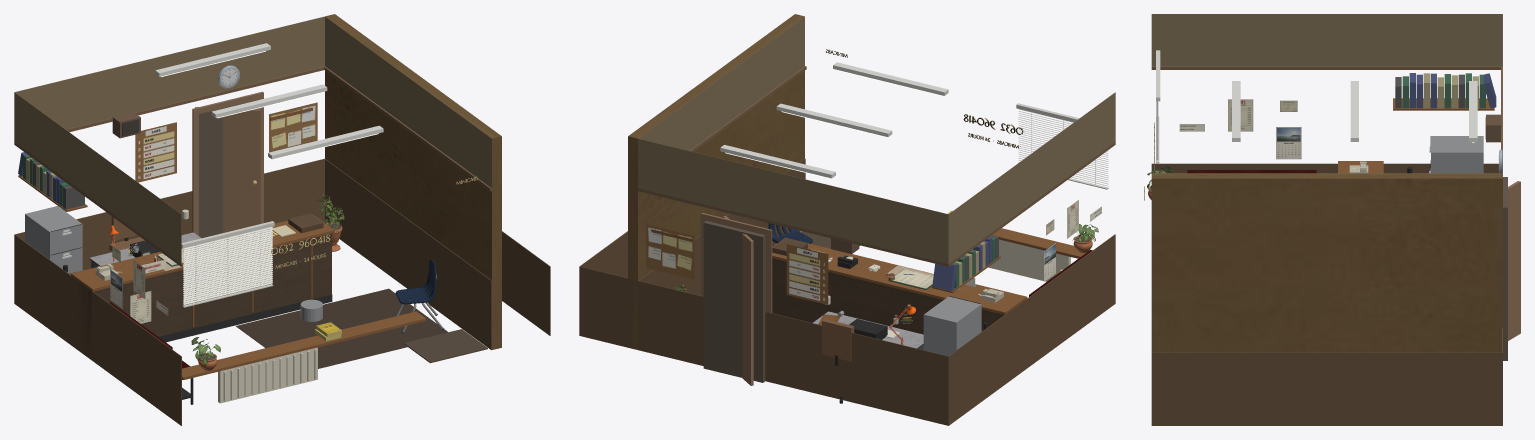
The model's file is fittings.glb.
The picture shows the model from 3 angles, left to right: view 1: azimuth 30°, elevation 25°; view 2: azimuth 150°, elevation 25°; view 3: azimuth 270°, elevation 25°; orthographic projection. The views are drawn at different scales.
Visible parts, largest first — view 1: mickeys_fittings; view 2: mickeys_fittings; view 3: mickeys_fittings.
Part boxes in pixels (x1,y1,x2,y2): mickeys_fittings: [14, 14, 550, 425]; mickeys_fittings: [579, 14, 1115, 425]; mickeys_fittings: [1144, 14, 1520, 425].
Bounding box in the file's own units: 5.3 × 3.08 × 4.45.
80 materials, 30 textured.
